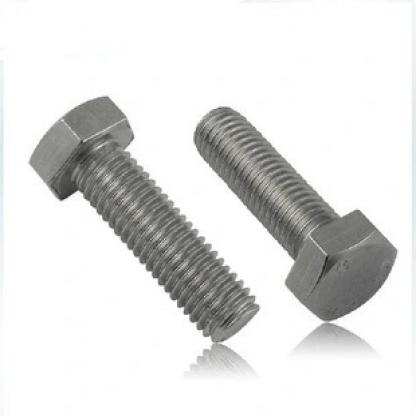FOD: (20, 84, 404, 350)
